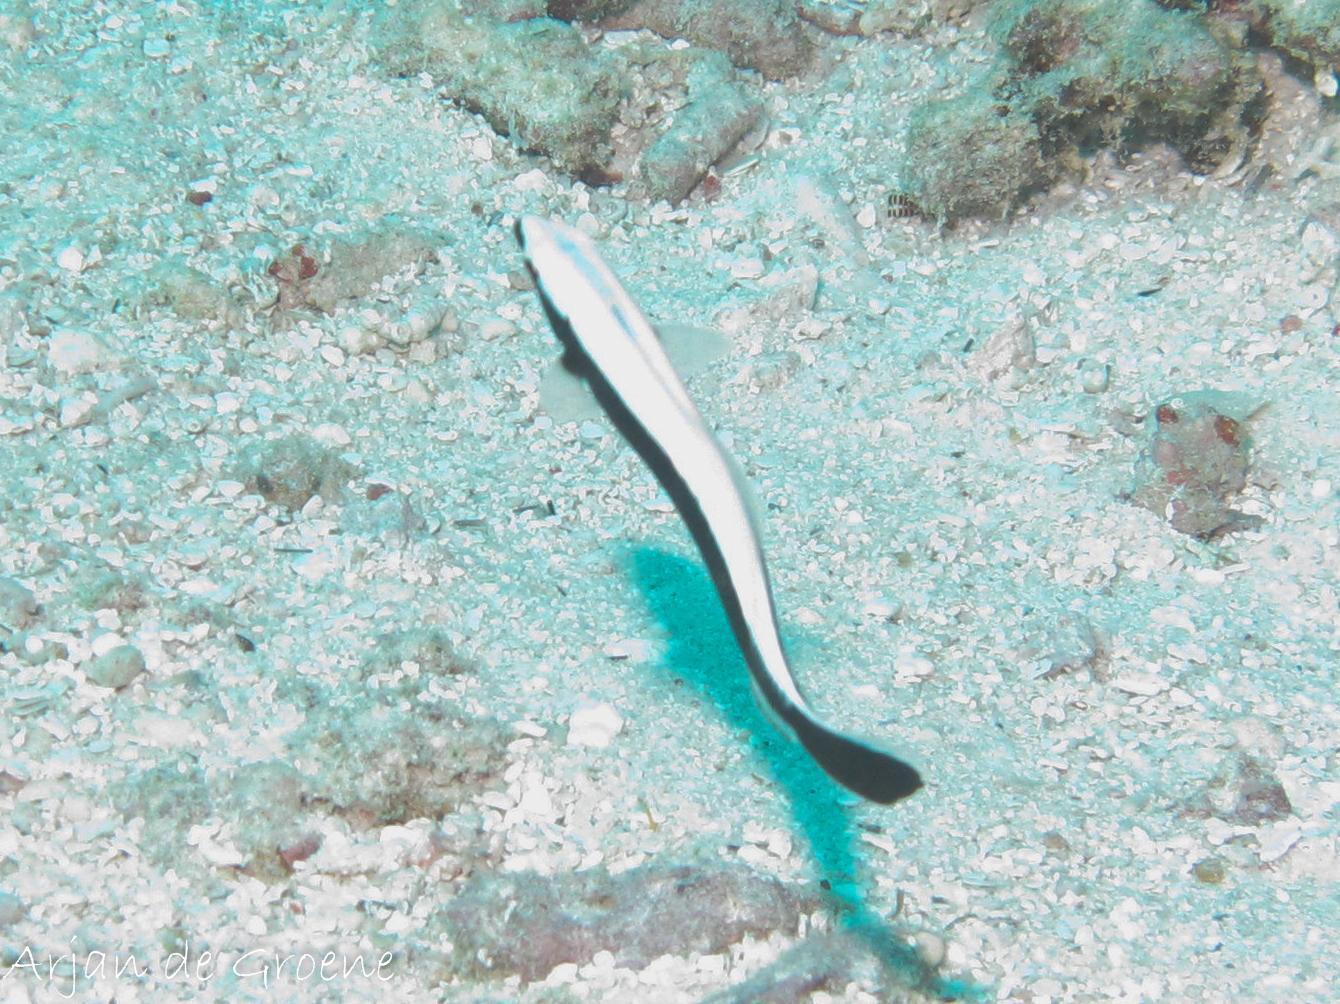Fish: (514, 209, 930, 814)
